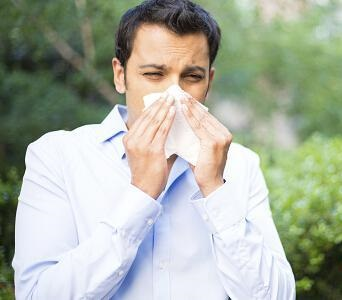face: (124, 26, 209, 134)
